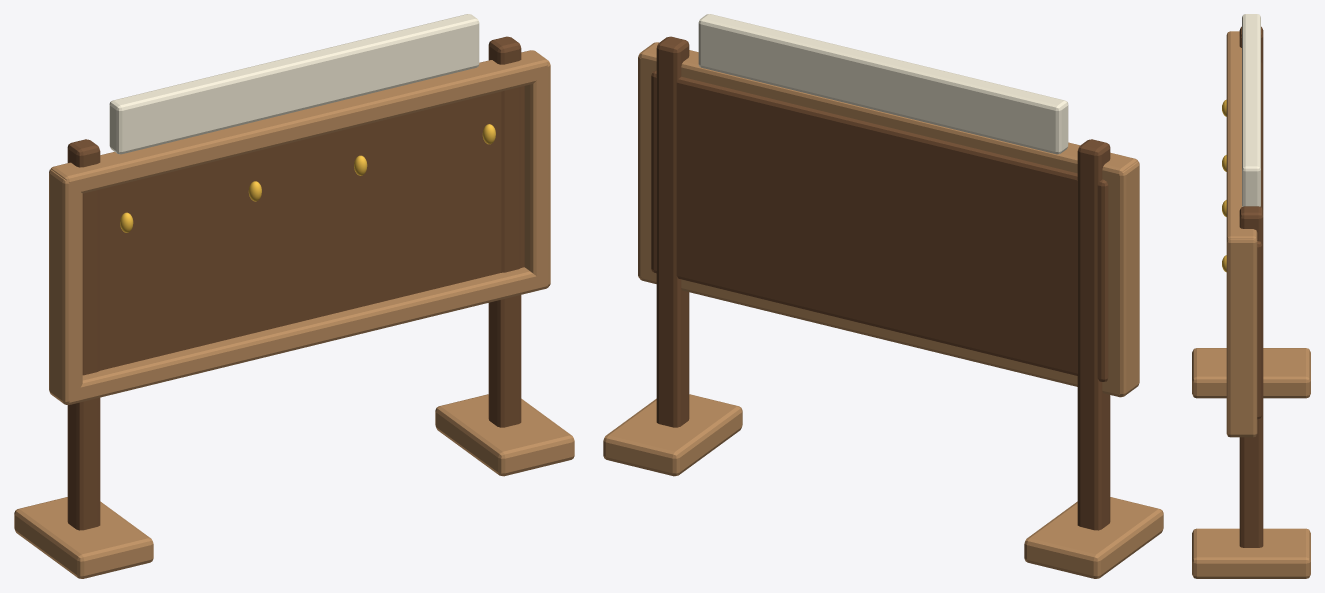
Rendered from beach-scoreboard.glb.
The picture shows the model from 3 angles, left to right: view 1: azimuth 30°, elevation 25°; view 2: azimuth 150°, elevation 25°; view 3: azimuth 270°, elevation 25°; orthographic projection. The views are drawn at different scales.
Visible parts, largest first — view 1: Score post.003; view 2: Score post.003; view 3: Score post.003.
Boxes of the visible parts, x1,y1,x2,y2 form: Score post.003: (14,14,574,578); Score post.003: (603,14,1163,578); Score post.003: (1192,14,1310,578).
Size of the model in its own units: 4.25 by 3.57 by 1.
